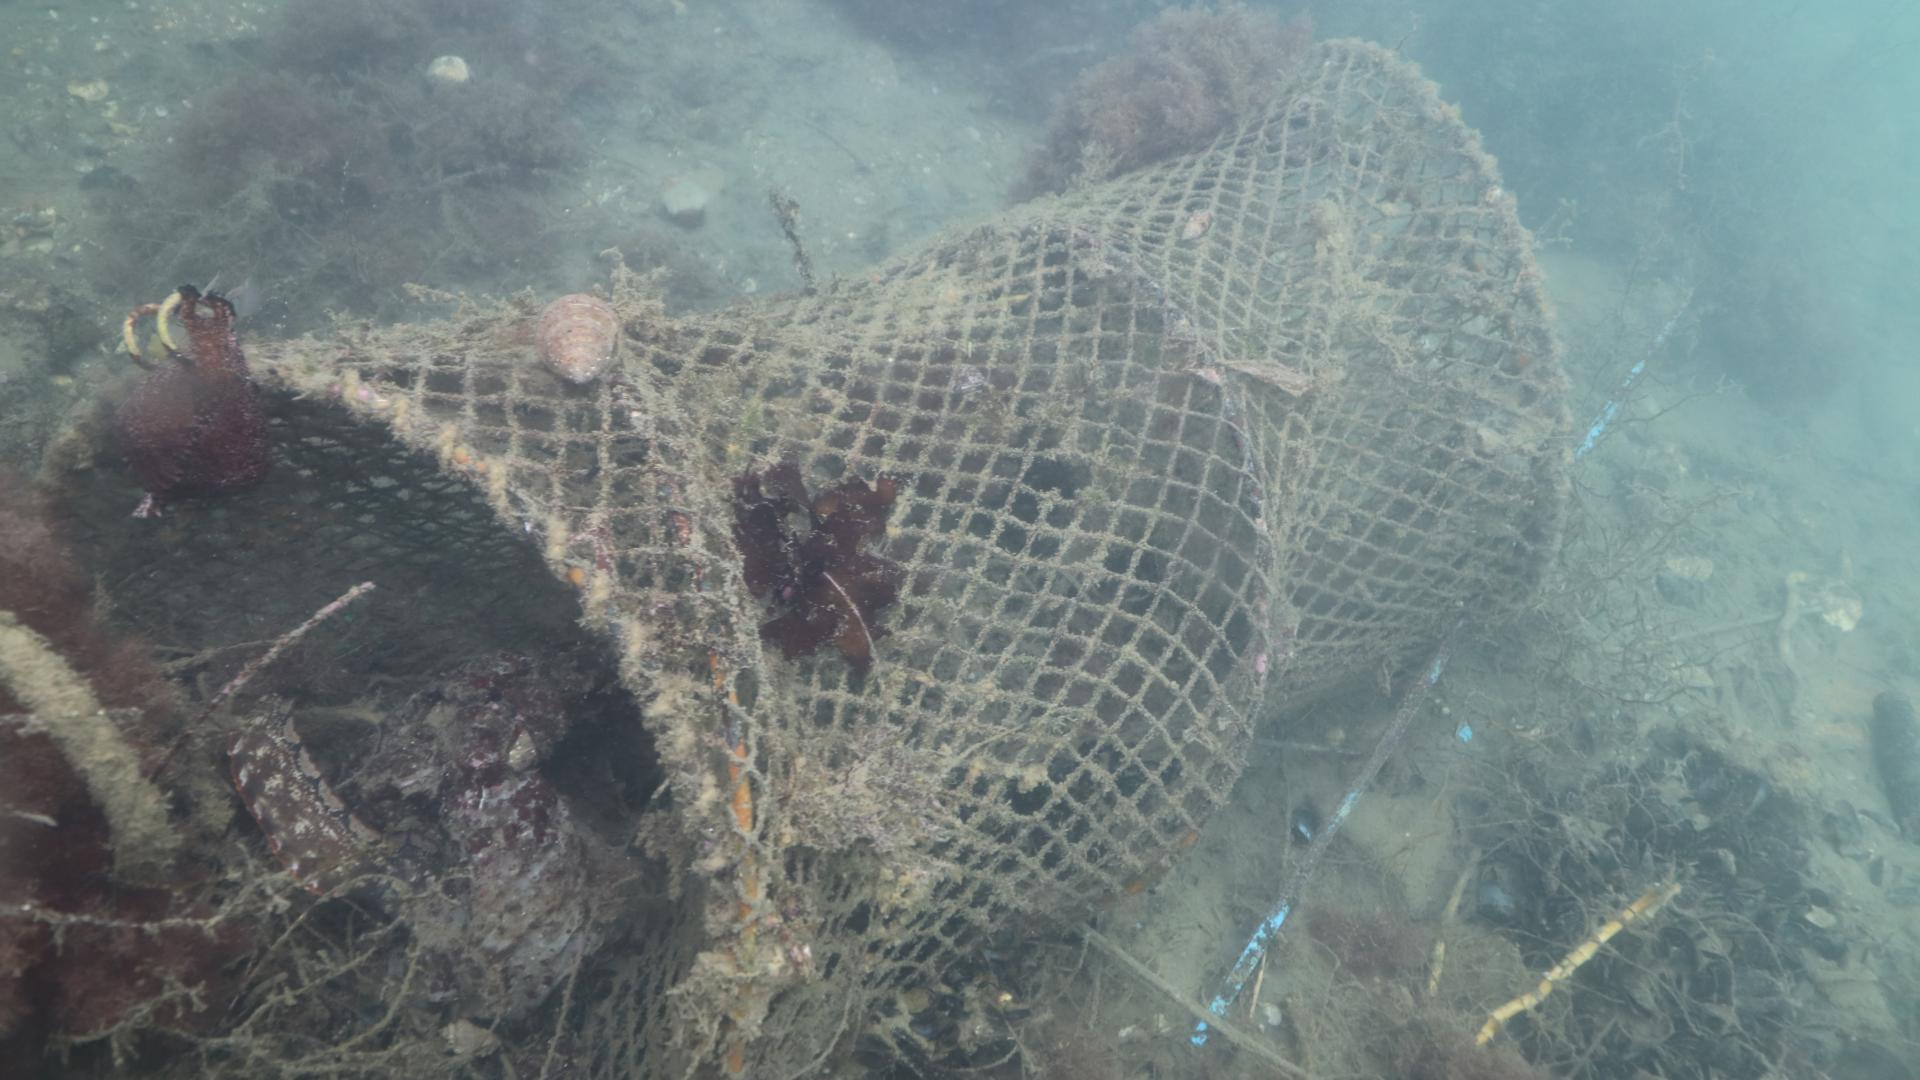rope: (0, 609, 183, 874)
spring fish trap: (26, 33, 1572, 1080)
